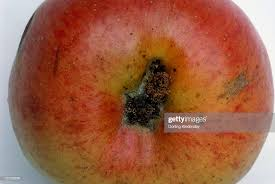damaged_apple: (19, 8, 261, 173)
